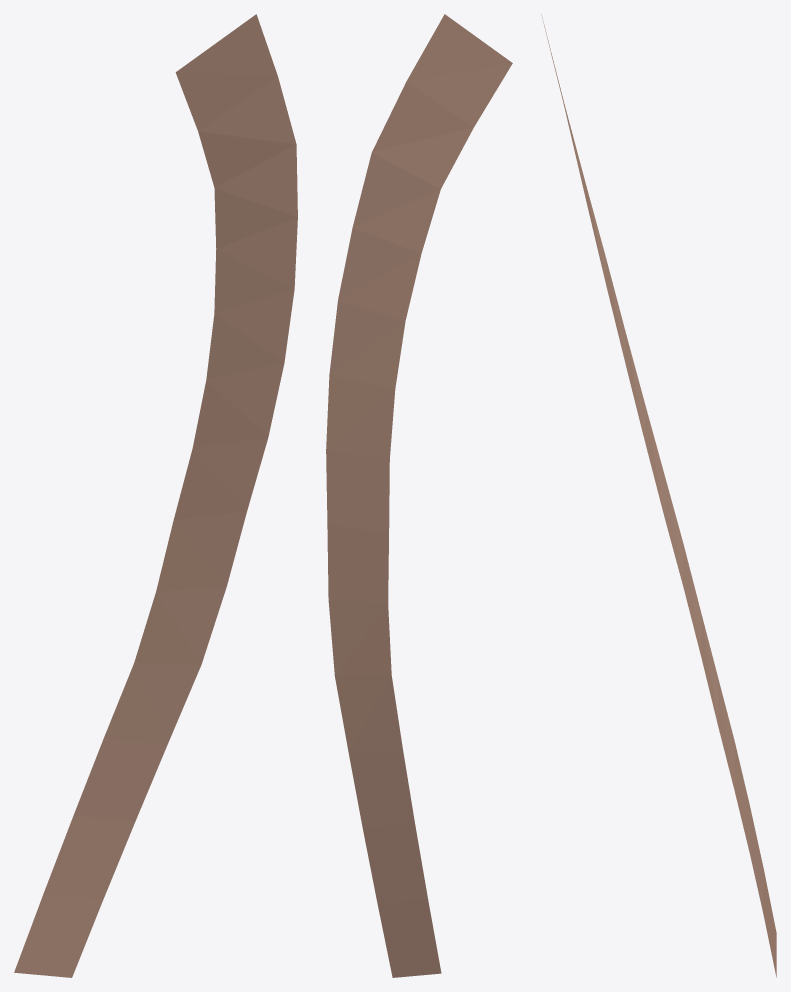
The model's file is improvement-1.glb.
The picture shows the model from 3 angles, left to right: view 1: azimuth 30°, elevation 25°; view 2: azimuth 150°, elevation 25°; view 3: azimuth 270°, elevation 25°; orthographic projection. The views are drawn at different scales.
Visible parts, largest first — view 1: Geom3D; view 2: Geom3D; view 3: Geom3D.
Boxes of the visible parts, x1=… form: Geom3D: x1=14, y1=14, x2=297, y2=977; Geom3D: x1=326, y1=14, x2=512, y2=977; Geom3D: x1=541, y1=14, x2=776, y2=977.
Bounding box in the file's own units: 13.04 × 64.16 × 13.78.
